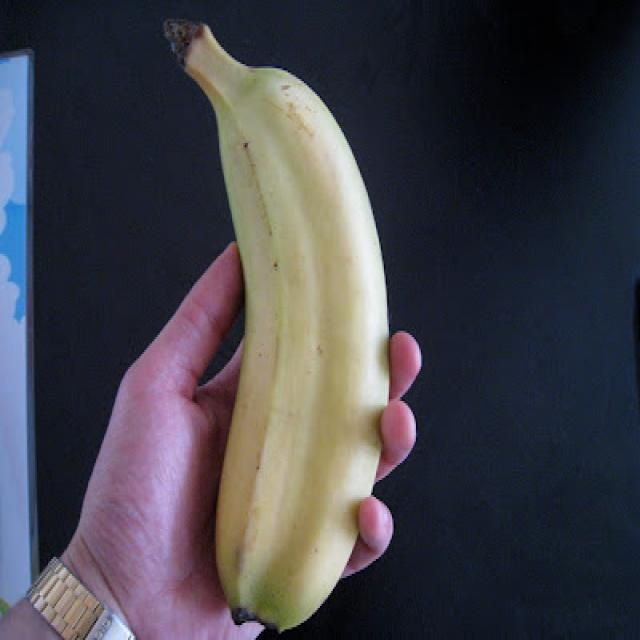Banana: (154, 20, 392, 633)
